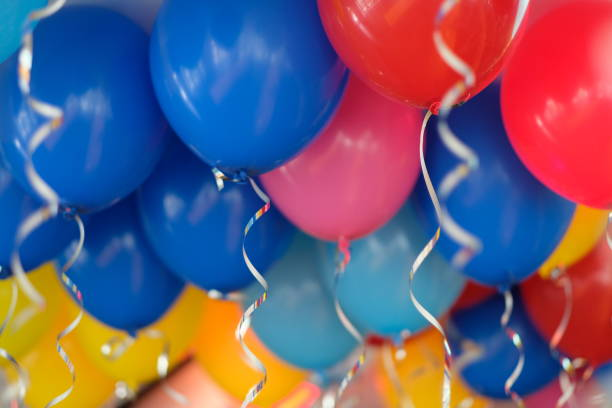Balloon: (150, 1, 348, 182), (1, 6, 163, 219), (316, 1, 533, 111), (501, 1, 612, 209), (141, 159, 279, 289), (64, 212, 175, 326), (448, 291, 555, 393)
